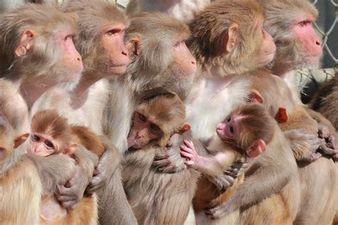monkey: (73, 4, 331, 123), (114, 94, 200, 219), (207, 106, 301, 214), (23, 103, 100, 208), (4, 6, 79, 111)
